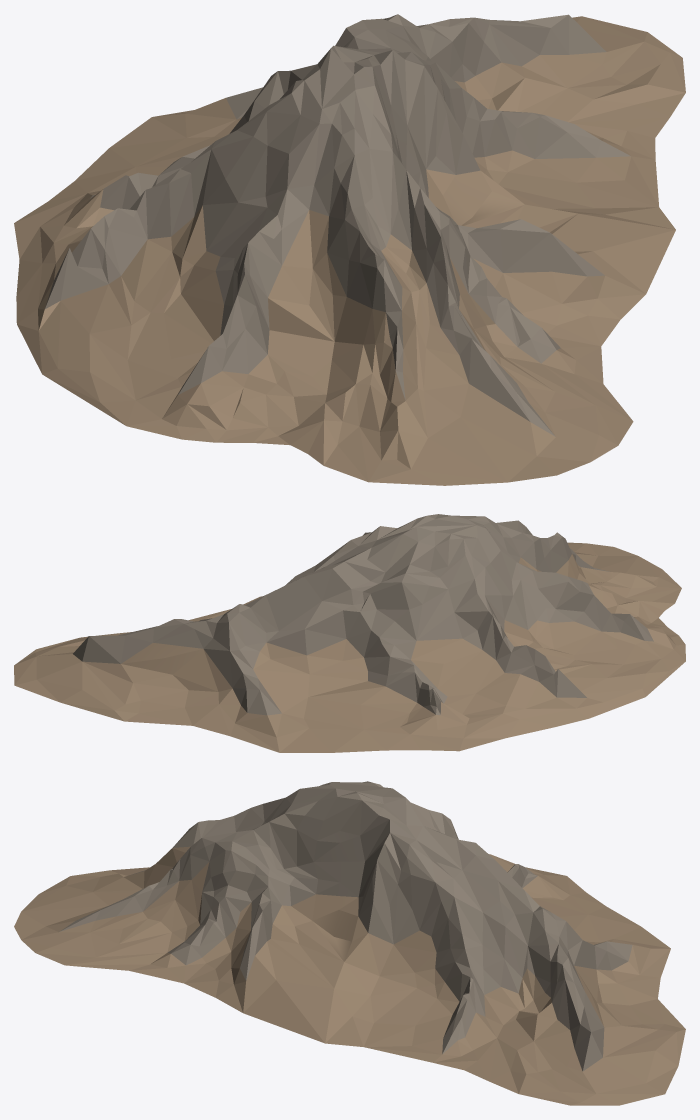
The model's file is SM_Env_Mountain_06.glb.
3 views of the same model, one above another, from view 1: azimuth 30°, elevation 25°; view 2: azimuth 150°, elevation 25°; view 3: azimuth 270°, elevation 25° (orthographic). The views are drawn at different scales.
Visible parts, largest first — view 1: SM_Env_Mountain_06; view 2: SM_Env_Mountain_06; view 3: SM_Env_Mountain_06.
Part boxes in pixels (<box>): SM_Env_Mountain_06: <box>14,14,685,485</box>; SM_Env_Mountain_06: <box>14,514,685,752</box>; SM_Env_Mountain_06: <box>14,781,685,1105</box>.
Bounding box in the file's own units: 60.93 × 15.84 × 62.81.
1 material, 1 textured.
